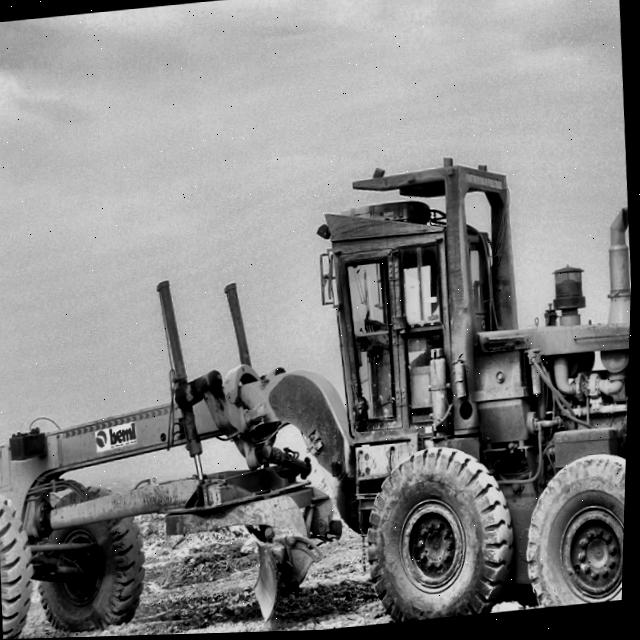buldozerpayloadergrader: (0, 163, 633, 639)
